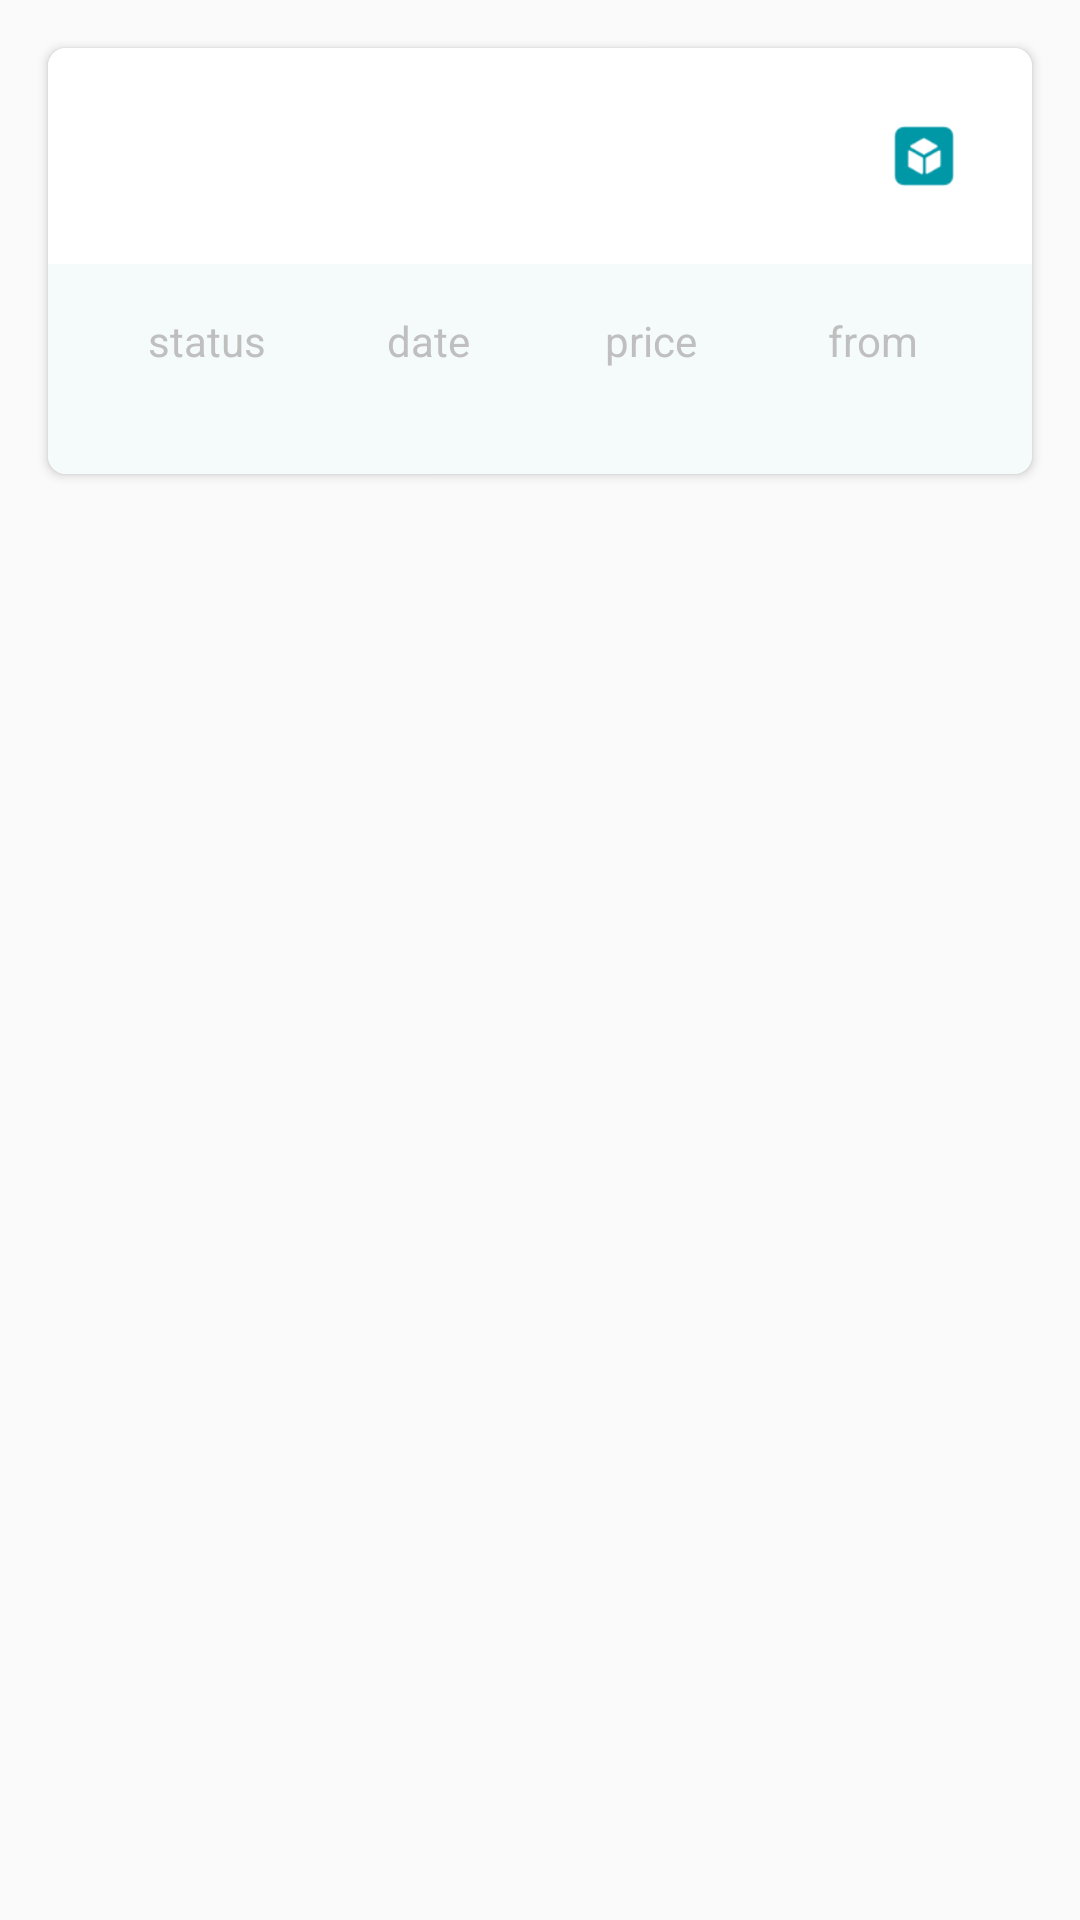

Named icons in this screenshot (1080w x 1920h) and their bounding boxes, (left=x1, top=y1, right=x2, bottom=y2):
box: (left=894, top=126, right=954, bottom=186)
